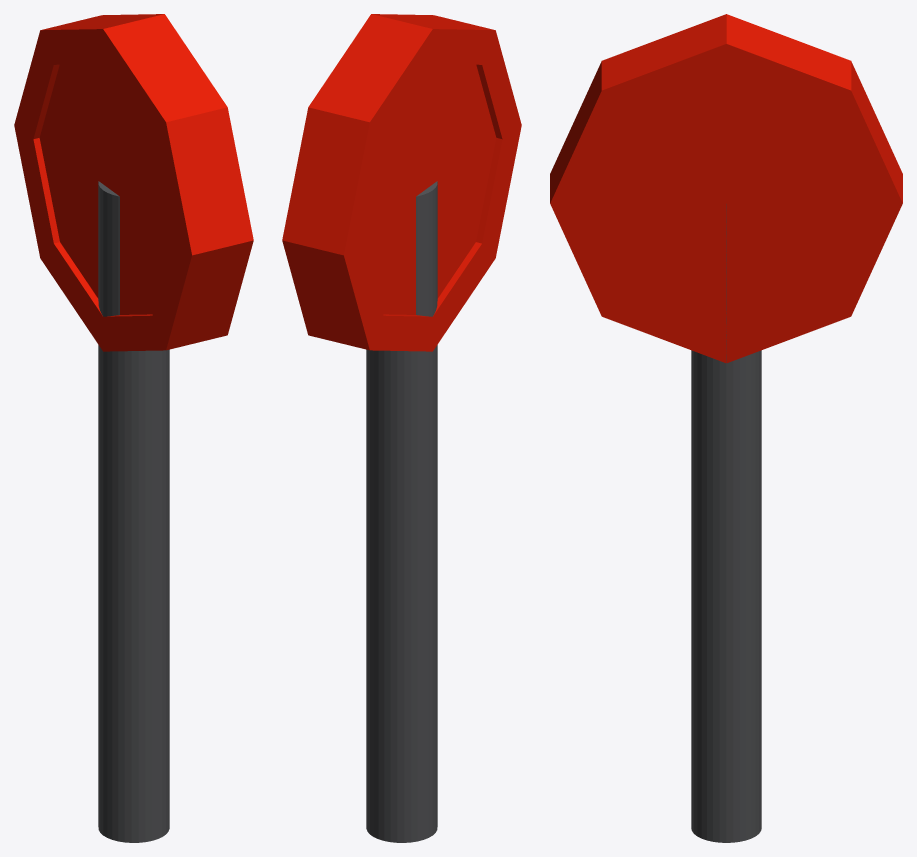
Rendered from stopSign.fbx.
The picture shows the model from 3 angles, left to right: view 1: azimuth 30°, elevation 25°; view 2: azimuth 150°, elevation 25°; view 3: azimuth 270°, elevation 25°; orthographic projection.
Visible parts, largest first — view 1: Cylinder.001, Cylinder; view 2: Cylinder.001, Cylinder; view 3: Cylinder.001, Cylinder.
Part boxes in pixels (left/top/right/bottom): Cylinder.001: left=14, top=14, right=253, bottom=351; Cylinder: left=98, top=181, right=169, bottom=842; Cylinder.001: left=282, top=14, right=521, bottom=351; Cylinder: left=366, top=181, right=437, bottom=842; Cylinder.001: left=550, top=14, right=902, bottom=363; Cylinder: left=691, top=204, right=761, bottom=842.
Bounding box in the file's own units: 10 × 125 × 50.
